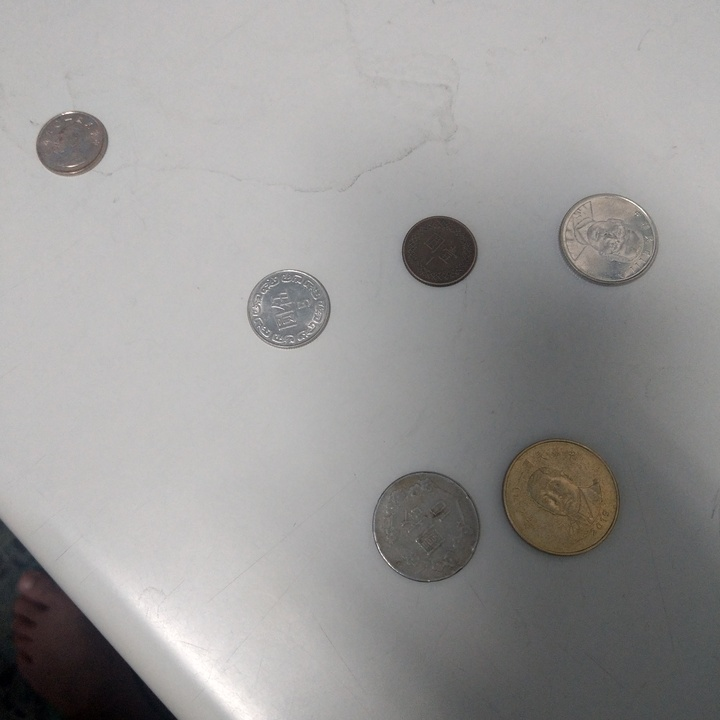1 dollar: (404, 215, 478, 289), (34, 110, 110, 180)
10 dollar: (371, 470, 482, 584), (560, 194, 661, 293)
5 dollar: (244, 267, 334, 350)
50 dollar: (500, 436, 620, 562)
